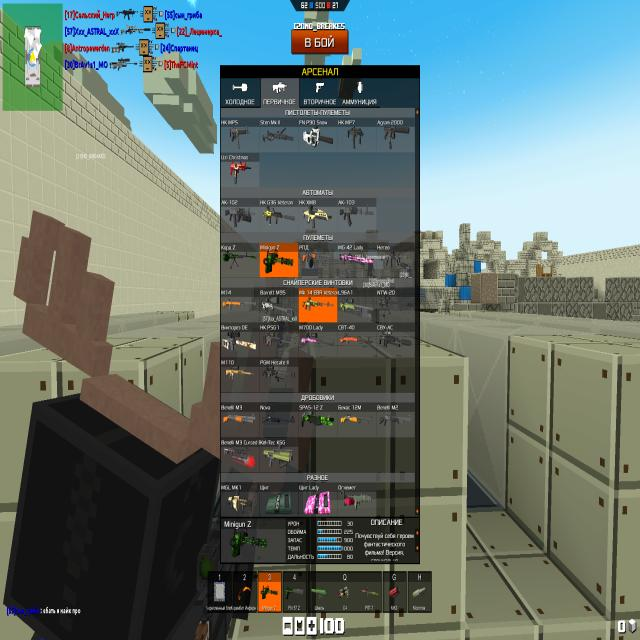player: (4, 393, 221, 640)
